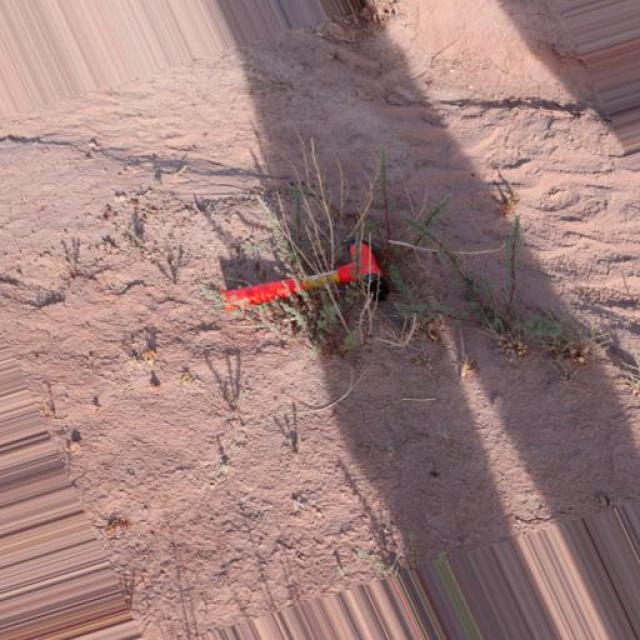mallet: (219, 236, 391, 316)
